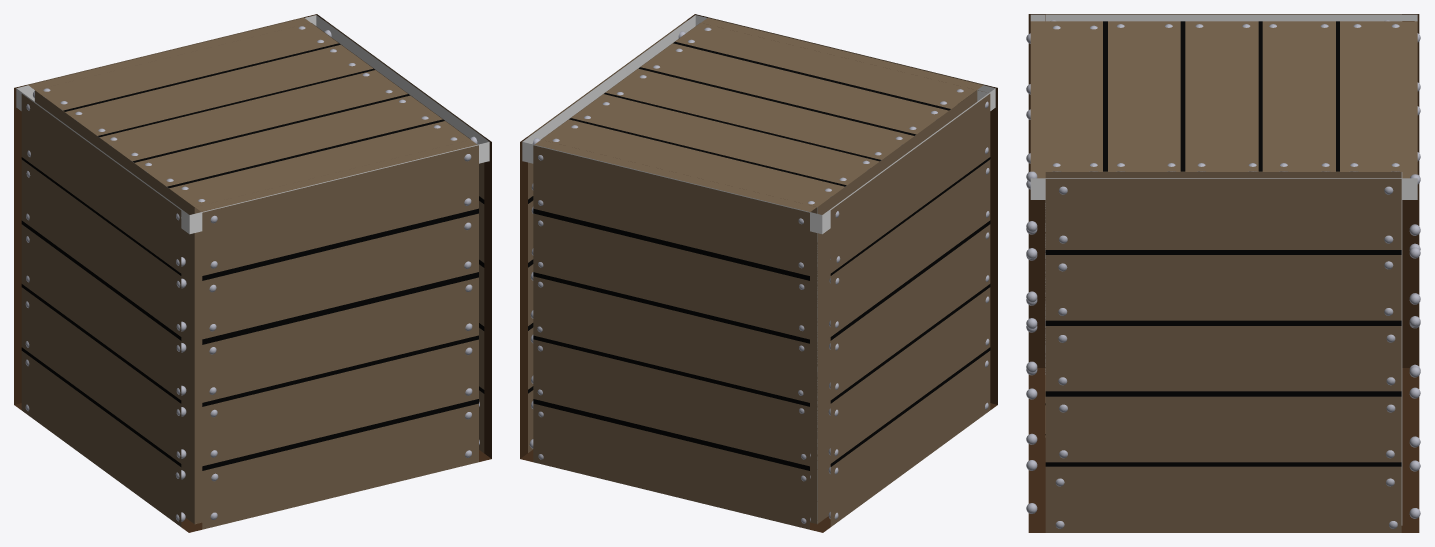
The picture shows the model from 3 angles, left to right: view 1: azimuth 30°, elevation 25°; view 2: azimuth 150°, elevation 25°; view 3: azimuth 270°, elevation 25°; orthographic projection. The views are drawn at different scales.
Parts seen in each view (by area): view 1: Cube, Sphere; view 2: Cube, Sphere; view 3: Cube, Sphere.
Boxes of the visible parts, bbox=[...] form: Cube: bbox=[14, 14, 491, 532]; Sphere: bbox=[25, 26, 479, 521]; Cube: bbox=[520, 14, 997, 532]; Sphere: bbox=[529, 27, 989, 523]; Cube: bbox=[1028, 14, 1419, 532]; Sphere: bbox=[1026, 20, 1420, 528].
Bounding box in the file's own units: 340 × 342 × 340.
